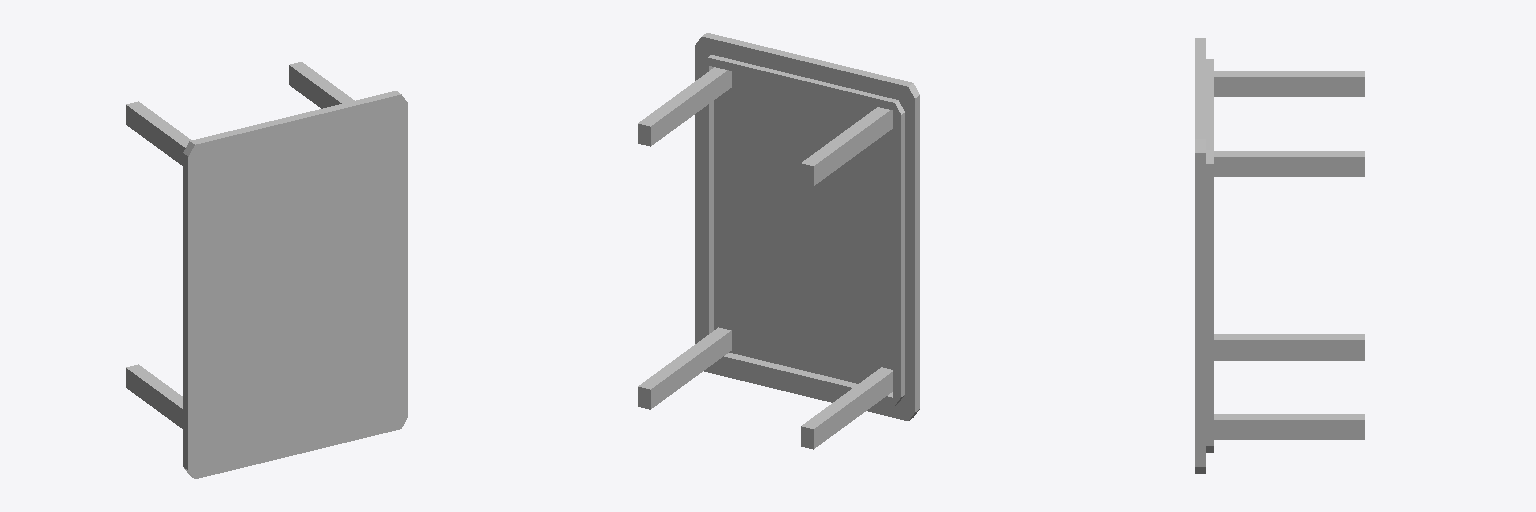
Rendered from table_wide.obj.
3 renders of one model, left to right at view 1: azimuth 30°, elevation 25°; view 2: azimuth 150°, elevation 25°; view 3: azimuth 270°, elevation 25°, orthographic.
Visible parts, largest first — view 1: KitchenTable_02_Cube.118; view 2: KitchenTable_02_Cube.118; view 3: KitchenTable_02_Cube.118.
Boxes of the visible parts, x1=… form: KitchenTable_02_Cube.118: x1=126, y1=62, x2=407, y2=478; KitchenTable_02_Cube.118: x1=638, y1=33, x2=919, y2=449; KitchenTable_02_Cube.118: x1=1195, y1=38, x2=1364, y2=473.
Size of the model in its own units: 1.5 by 2.18 by 1.